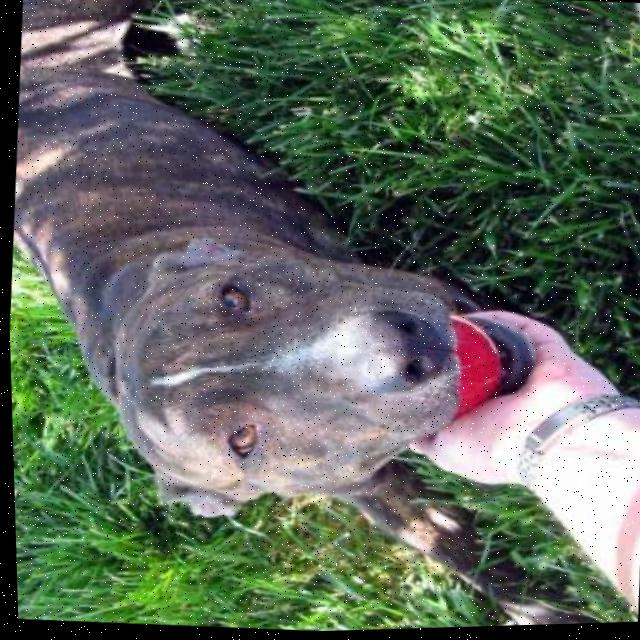dogs: (0, 0, 627, 640)
